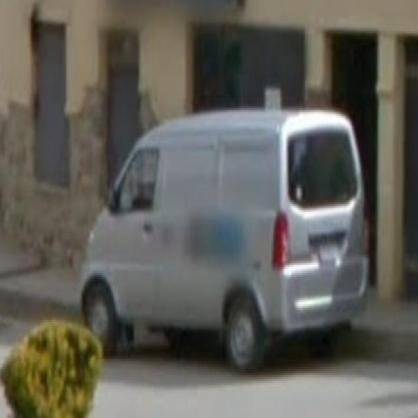car: (80, 107, 372, 372)
